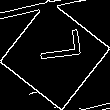L_W: (28, 36, 82, 74)
